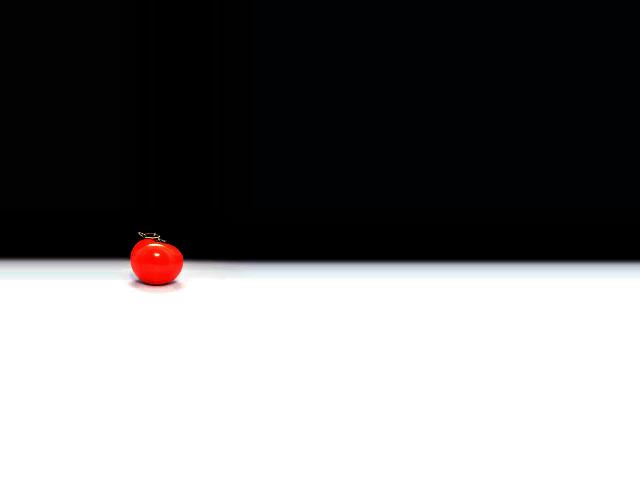tomato: (130, 238, 184, 285)
